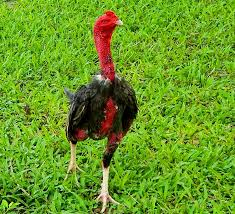Gà/Chicken: (48, 5, 158, 214)
